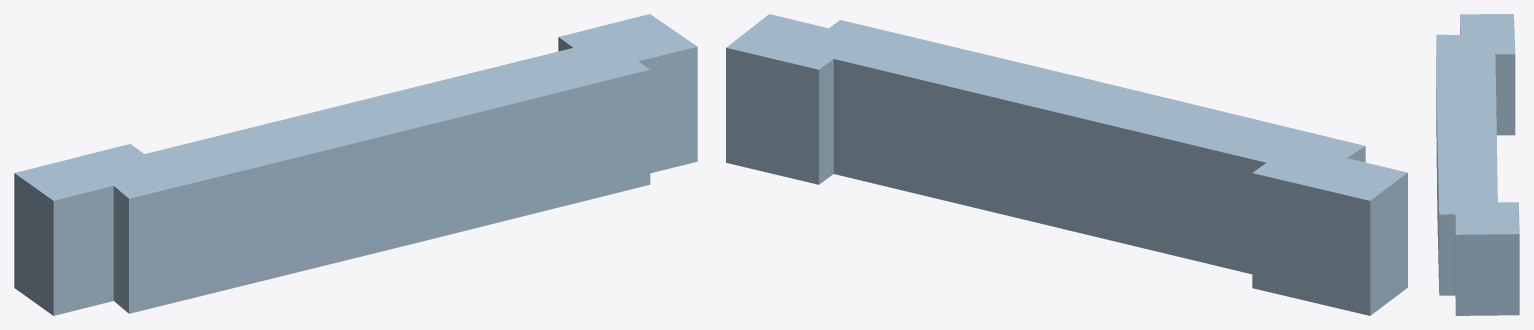
File: osm_way_223859843.glb
3 renders of one model, left to right at view 1: azimuth 30°, elevation 25°; view 2: azimuth 150°, elevation 25°; view 3: azimuth 270°, elevation 25°, orthographic. The views are drawn at different scales.
Visible parts, largest first — view 1: osm_way_223859843; view 2: osm_way_223859843; view 3: osm_way_223859843.
Part boxes in pixels (x1,y1,x2,y2): osm_way_223859843: (14,14,697,315); osm_way_223859843: (726,14,1407,315); osm_way_223859843: (1436,14,1519,315).
Bounding box in the file's own units: 112 × 19.2 × 17.91.
